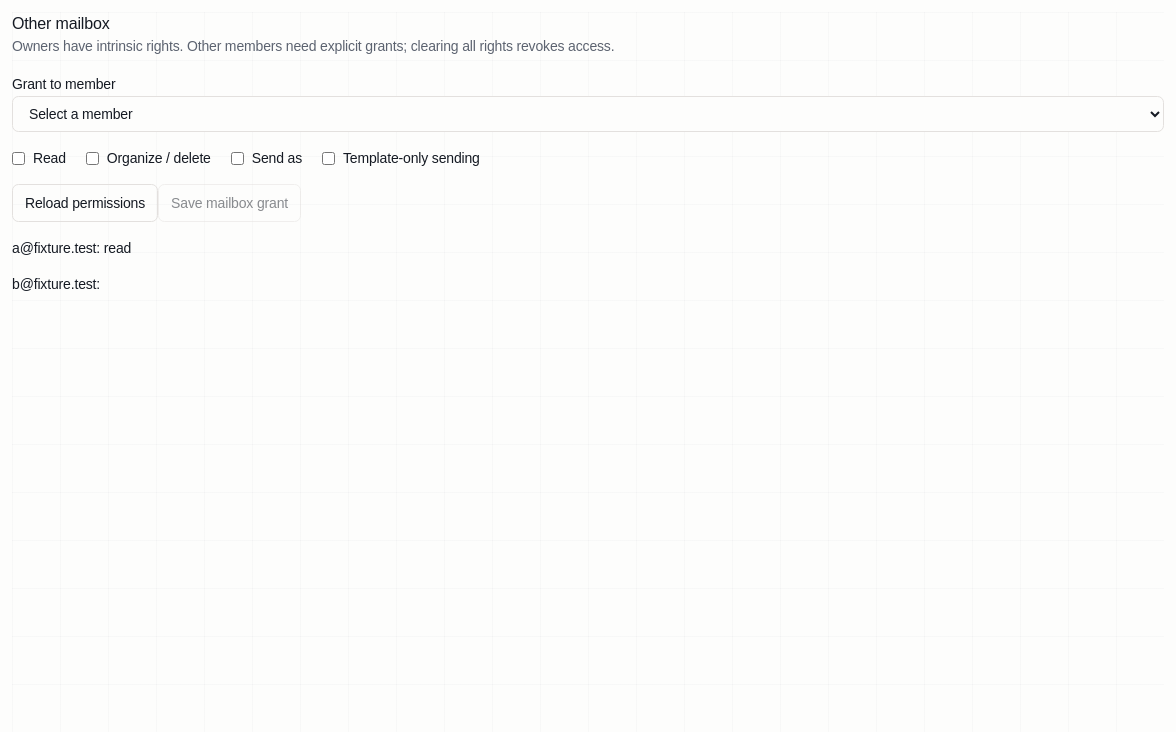
Test case: mailbox grant save ownership and acknowledged readback › submits one complete grant and clears an unchanged submitted form after confirmation
Expected: the text "a@fixture.test: read" is shown, [12,240,131,256]
Select "A · a@fixture.test" in the dropdown labelled "Grant to member" at (588, 114), box [12,96,1164,132]
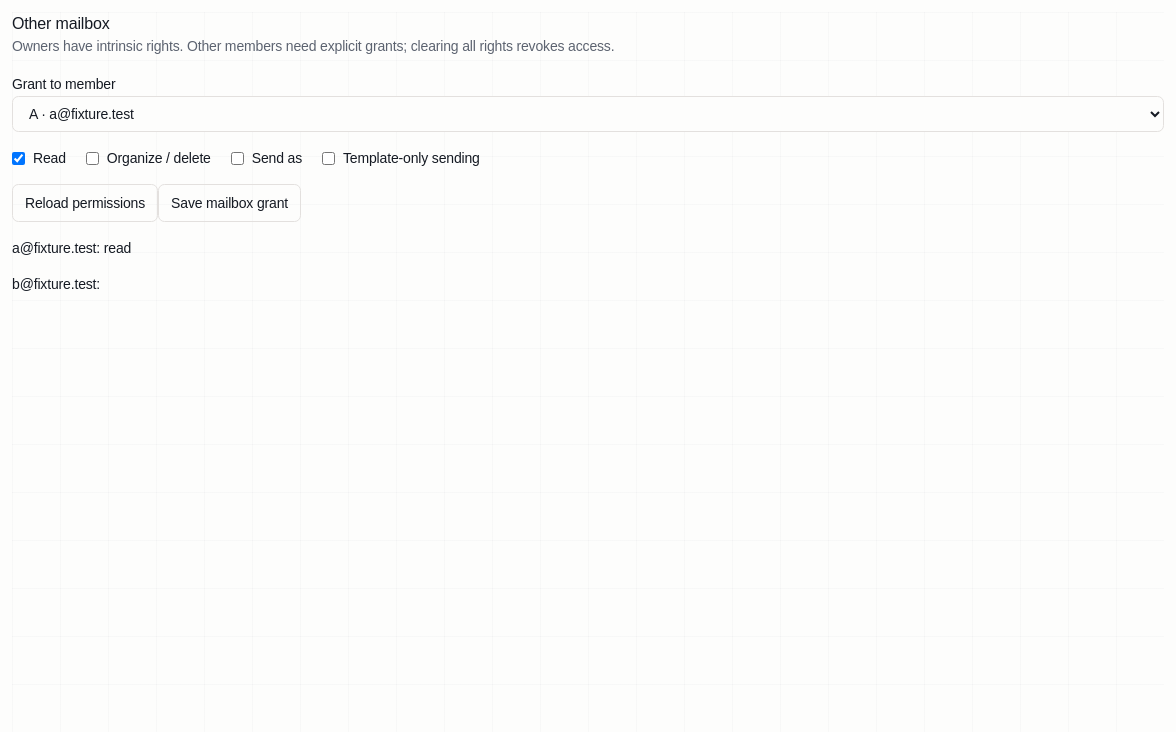
Click the checkbox labelled "Read" at (18, 158), box [12,152,25,164]
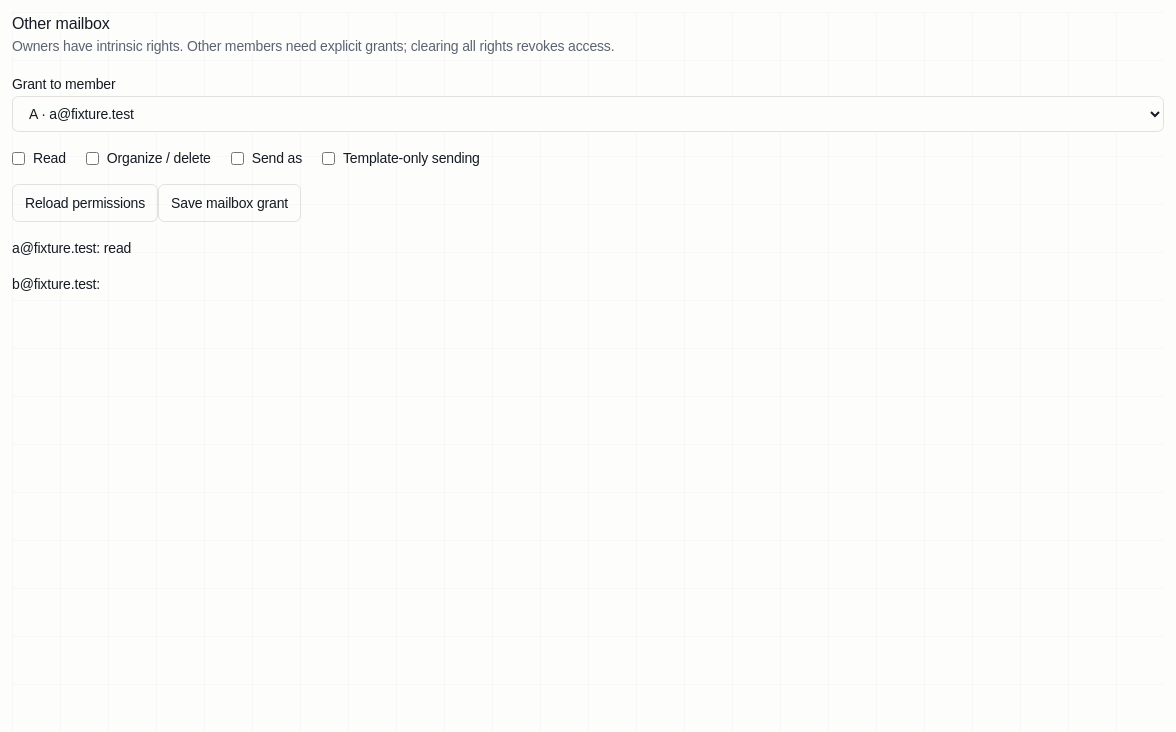
Click the button "Save mailbox grant" at (230, 203), box [158,184,301,222]
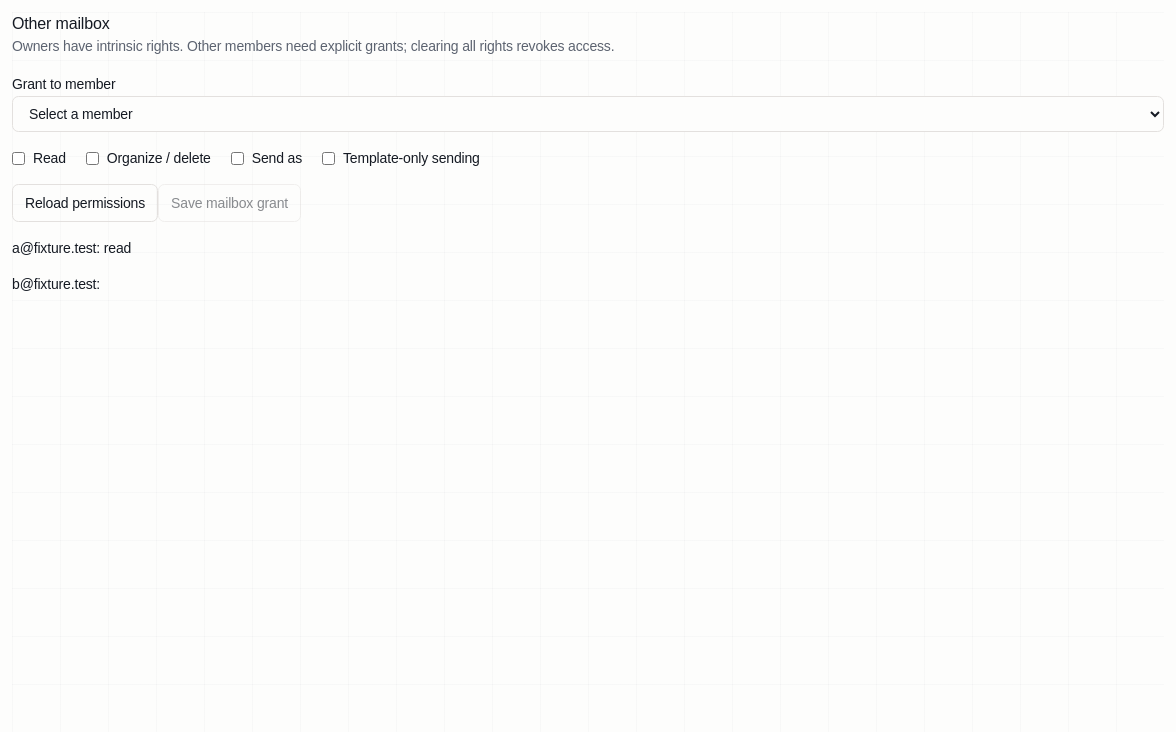
Now the button "Save mailbox grant" is disabled, box [158,184,301,222]
